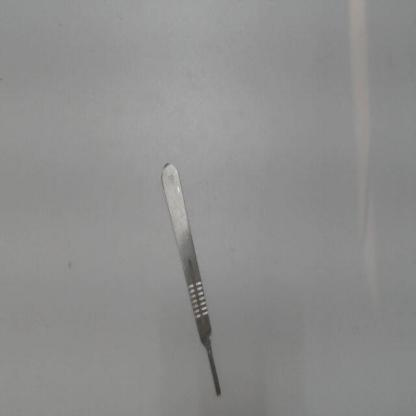No.4 BP Handle: (148, 146, 231, 406)
